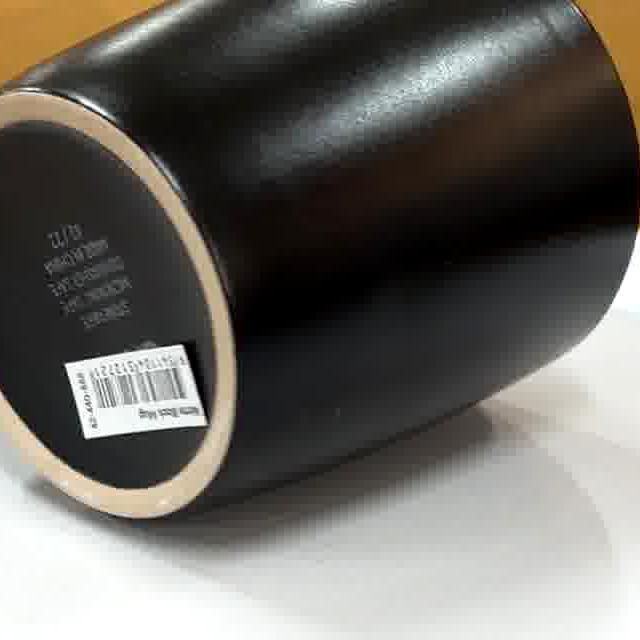cup: (0, 0, 640, 525)
